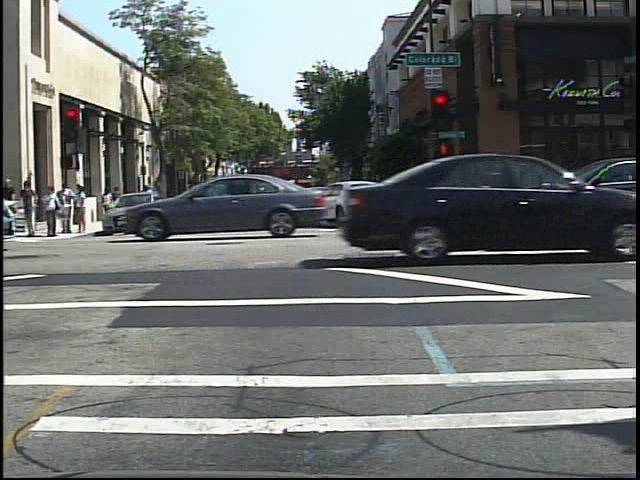person: (102, 186, 118, 224), (142, 181, 157, 213), (138, 181, 153, 211)
